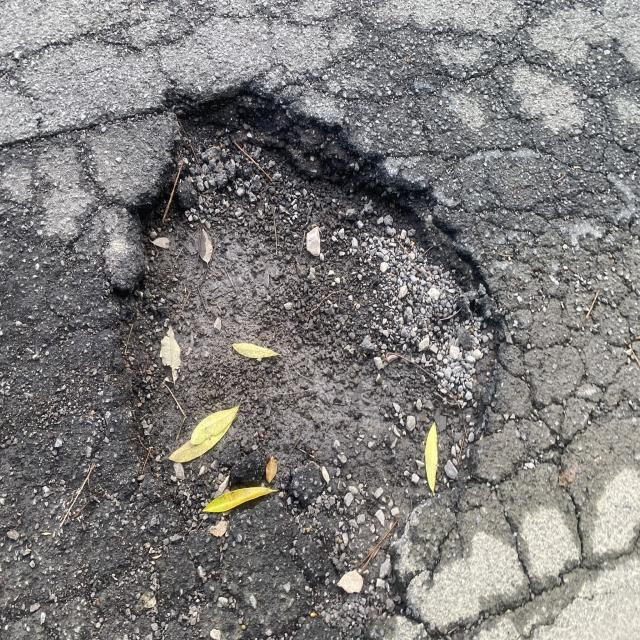pothole: (84, 41, 552, 528)
